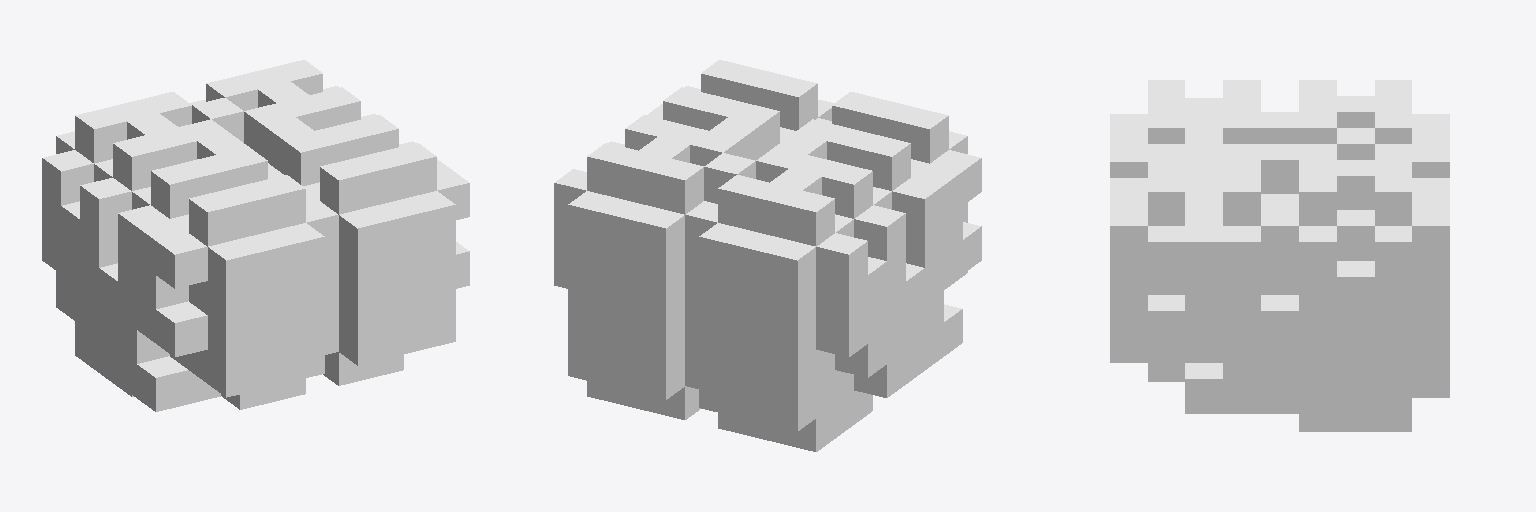
File: brain.obj
The picture shows the model from 3 angles: view 1: azimuth 30°, elevation 25°; view 2: azimuth 150°, elevation 25°; view 3: azimuth 270°, elevation 25°; orthographic projection.
Visible parts, largest first — view 1: brain; view 2: brain; view 3: brain.
Part boxes in pixels (left/top/right/bottom): brain: left=42, top=60, right=469, bottom=411; brain: left=554, top=60, right=981, bottom=451; brain: left=1110, top=80, right=1449, bottom=431.
Size of the model in its own units: 9 by 7 by 9.